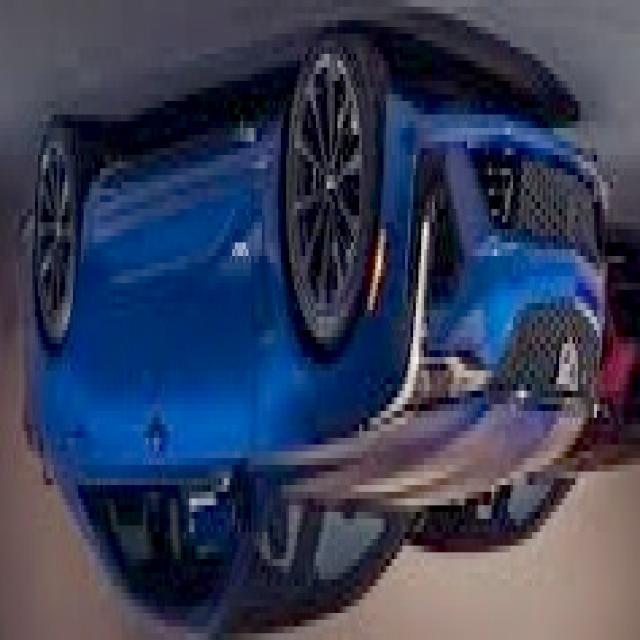blue: (18, 44, 608, 640)
